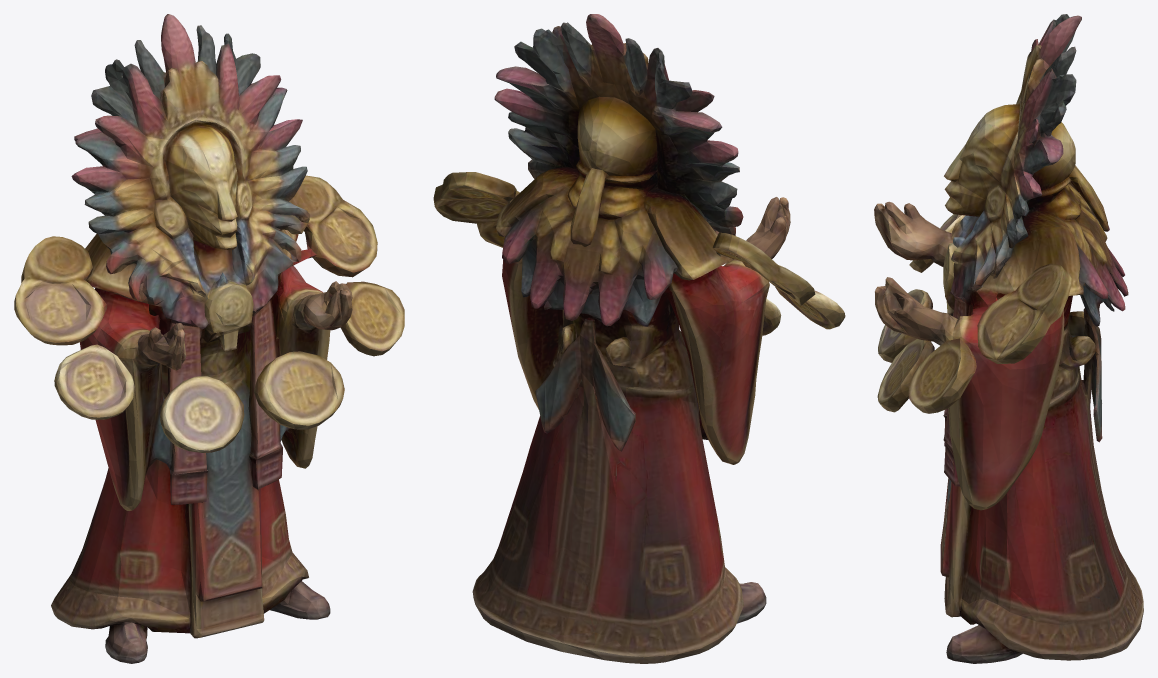
File: wardStoneAbjurer.glb
3 renders of one model, left to right at view 1: azimuth 30°, elevation 25°; view 2: azimuth 150°, elevation 25°; view 3: azimuth 270°, elevation 25°, orthographic. The views are drawn at different scales.
Parts seen in each view (by area): view 1: world; view 2: world; view 3: world.
Boxes of the visible parts, x1,y1,x2,y2 form: world: (14, 14, 404, 663); world: (433, 14, 845, 663); world: (874, 14, 1143, 663).
Size of the model in its own units: 0.6392 by 0.9999 by 0.4089.
Materials: 1 (1 with a texture image).
